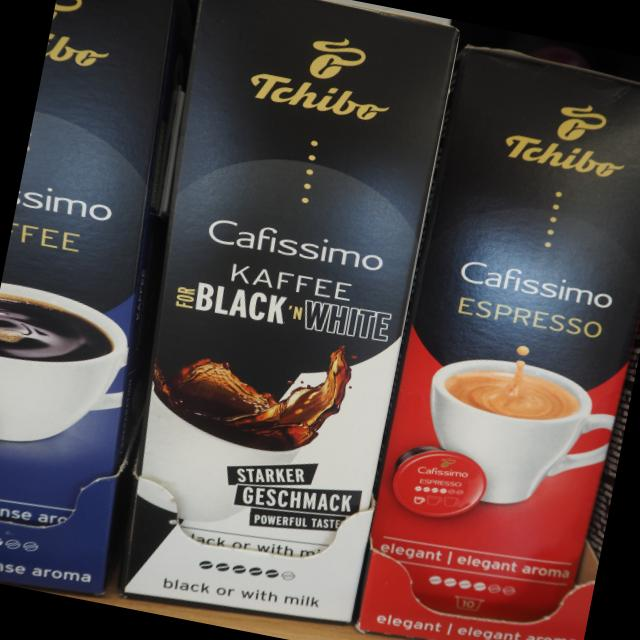Simo Es Elegant: (359, 41, 640, 640)
Simo Kaffee BW: (117, 0, 473, 629)
